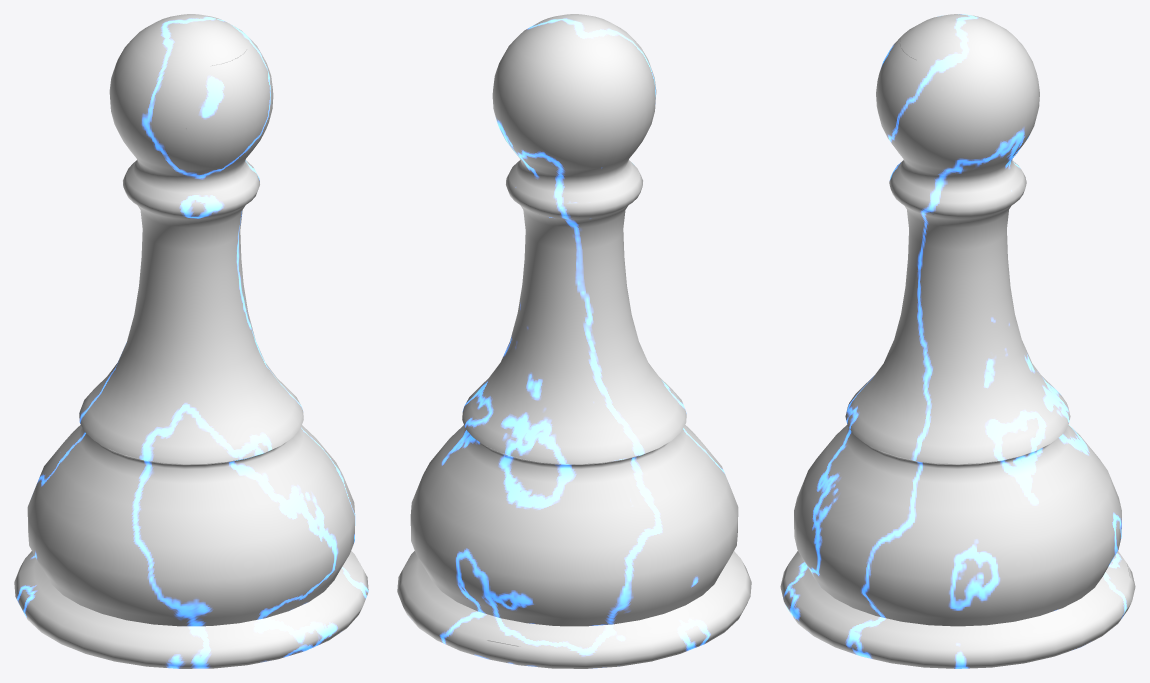
The model's file is WhitePawn.glb.
The picture shows the model from 3 angles, left to right: view 1: azimuth 30°, elevation 25°; view 2: azimuth 150°, elevation 25°; view 3: azimuth 270°, elevation 25°; orthographic projection.
Parts seen in each view (by area): view 1: Pawn.009; view 2: Pawn.009; view 3: Pawn.009.
Boxes of the visible parts, x1,y1,x2,y2 form: Pawn.009: (14,14,368,668); Pawn.009: (397,14,751,668); Pawn.009: (780,14,1135,668).
Size of the model in its own units: 0.1555 by 0.2804 by 0.1555.
1 material, 1 textured.
